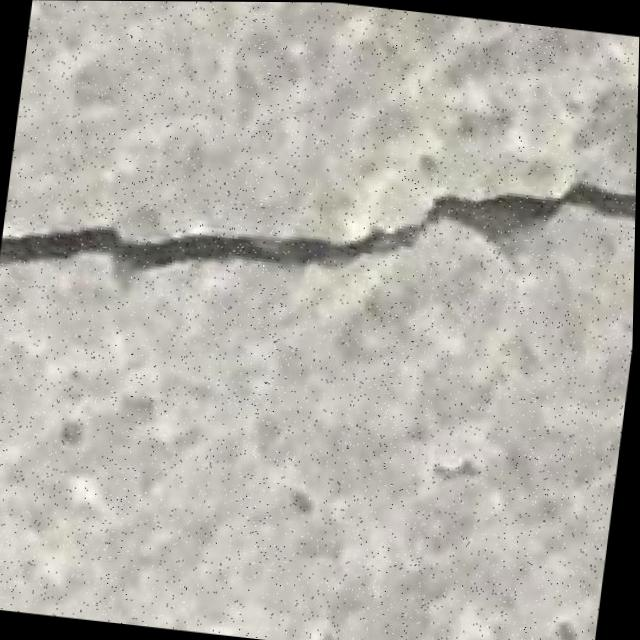Crack: (0, 107, 638, 354)
